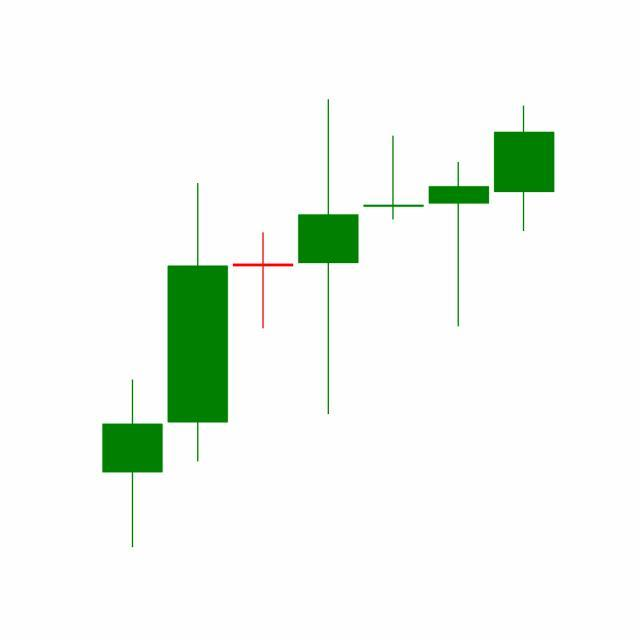Up-Down Gap Side-by-side White Lines: (295, 100, 492, 420)
